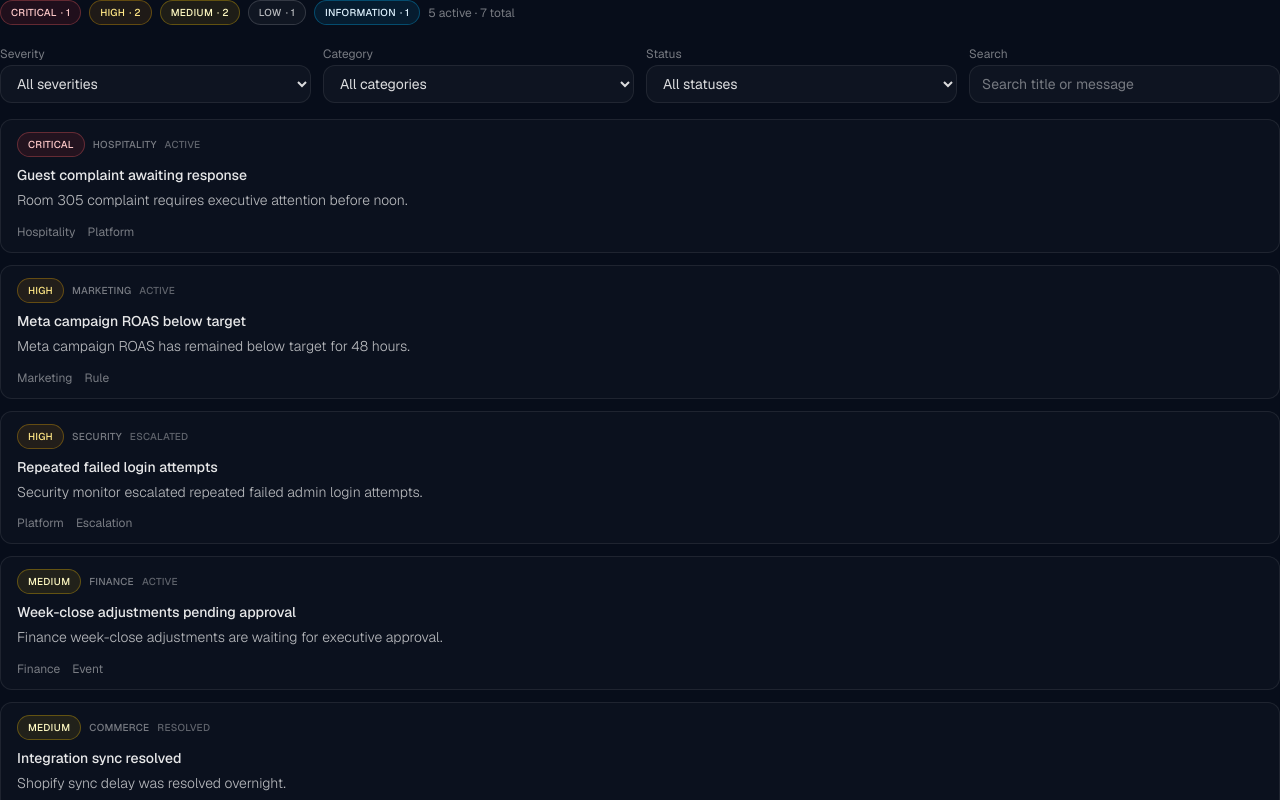
Test: AlertCenter integration › filters alerts by severity
Step 1. Select "Critical" in the dropdown named "Filter by severity" → coordinates (156, 84), box [0,65,311,103]
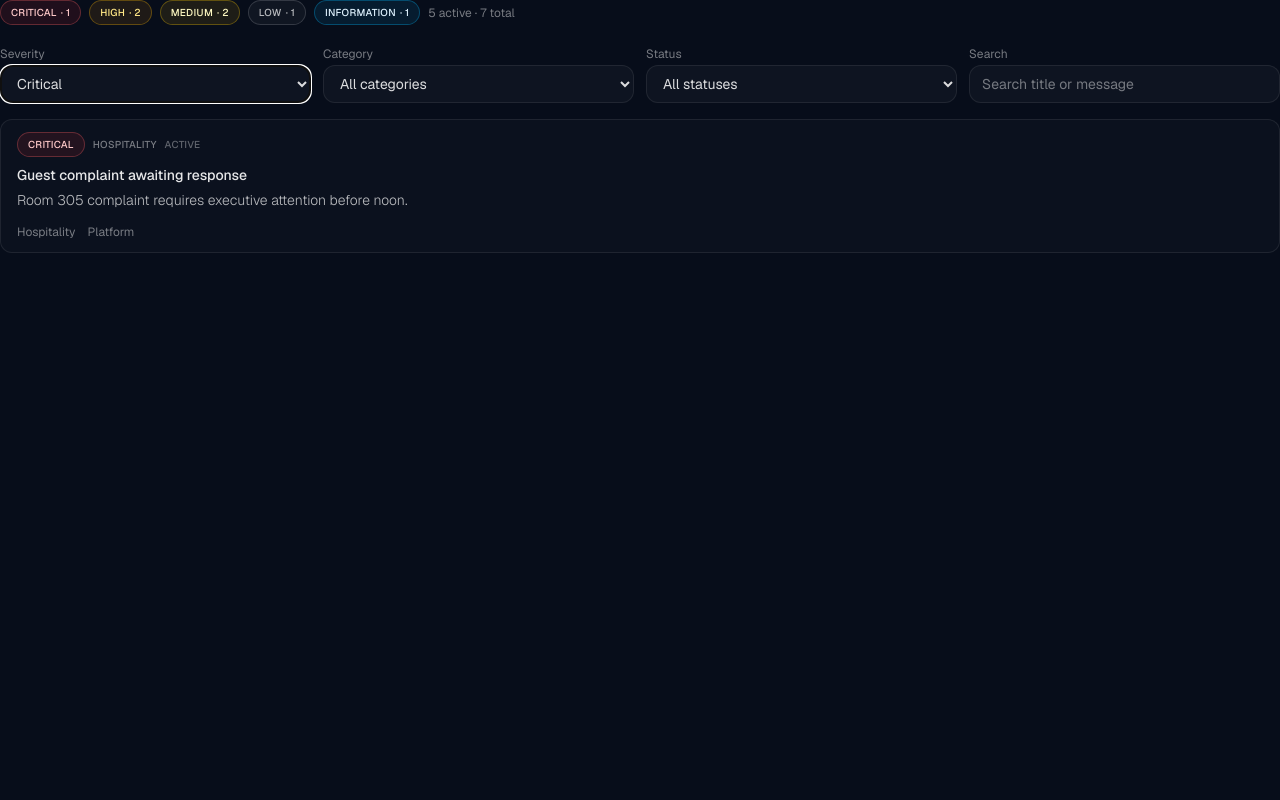
Expected: the heading "Guest complaint awaiting response" is shown, [17,166,247,184]
Expected: the heading "Meta campaign ROAS below target" is gone
